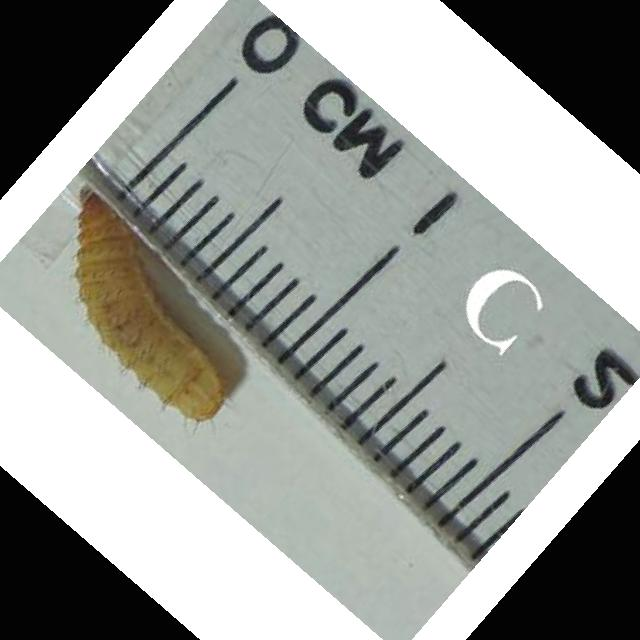Maggot: (70, 185, 229, 428)
